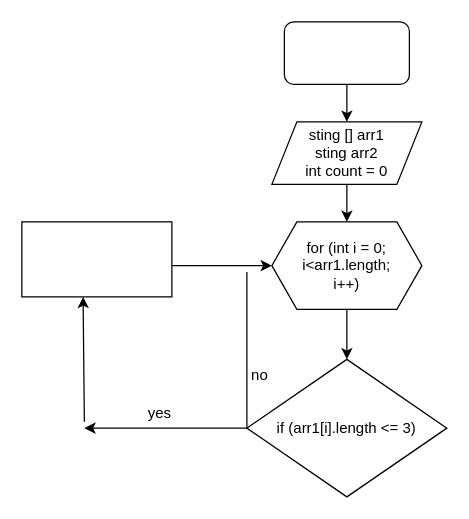
Image size: 469x519. Some labels were removed from this diagram. The shapes that lost their labels are listed below. From the top down, each one's centre as x and y in pixels, then its label:
point (346, 52): Start
point (96, 259): arr2[count] = arr1 [i] count ++;
